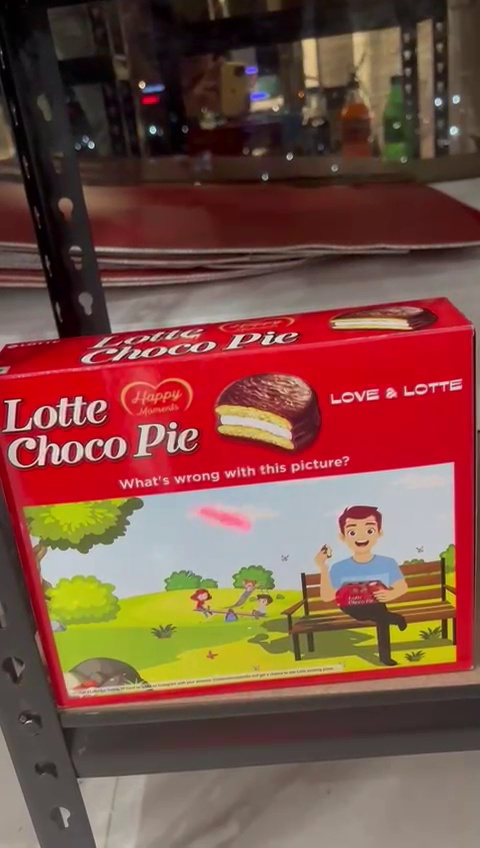Lotte Chocopie: (1, 340, 480, 685)
